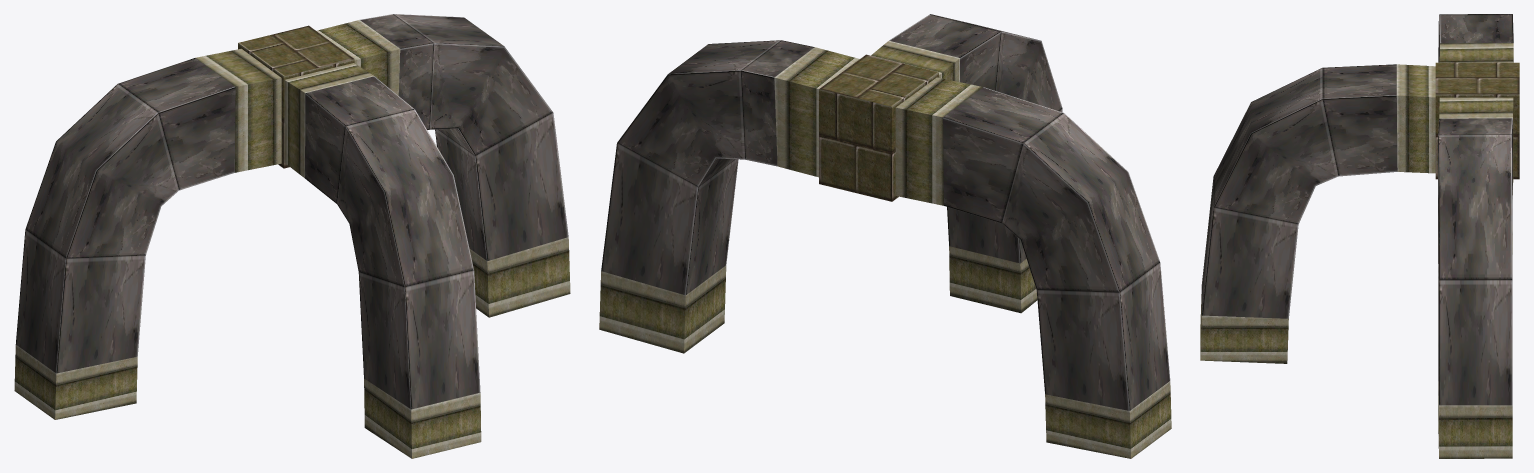
The model's file is INST_SM_BUTTRESSES.fbx.
The picture shows the model from 3 angles, left to right: view 1: azimuth 30°, elevation 25°; view 2: azimuth 150°, elevation 25°; view 3: azimuth 270°, elevation 25°; orthographic projection. The views are drawn at different scales.
Visible parts, largest first — view 1: INST_SM_BUTTRESSES; view 2: INST_SM_BUTTRESSES; view 3: INST_SM_BUTTRESSES.
Part boxes in pixels (x1,y1,x2,y2): INST_SM_BUTTRESSES: (14, 14, 570, 458); INST_SM_BUTTRESSES: (599, 14, 1171, 458); INST_SM_BUTTRESSES: (1200, 14, 1519, 458).
Size of the model in its own units: 110666 by 59993 by 64311.
Materials: 4 (4 with a texture image).
